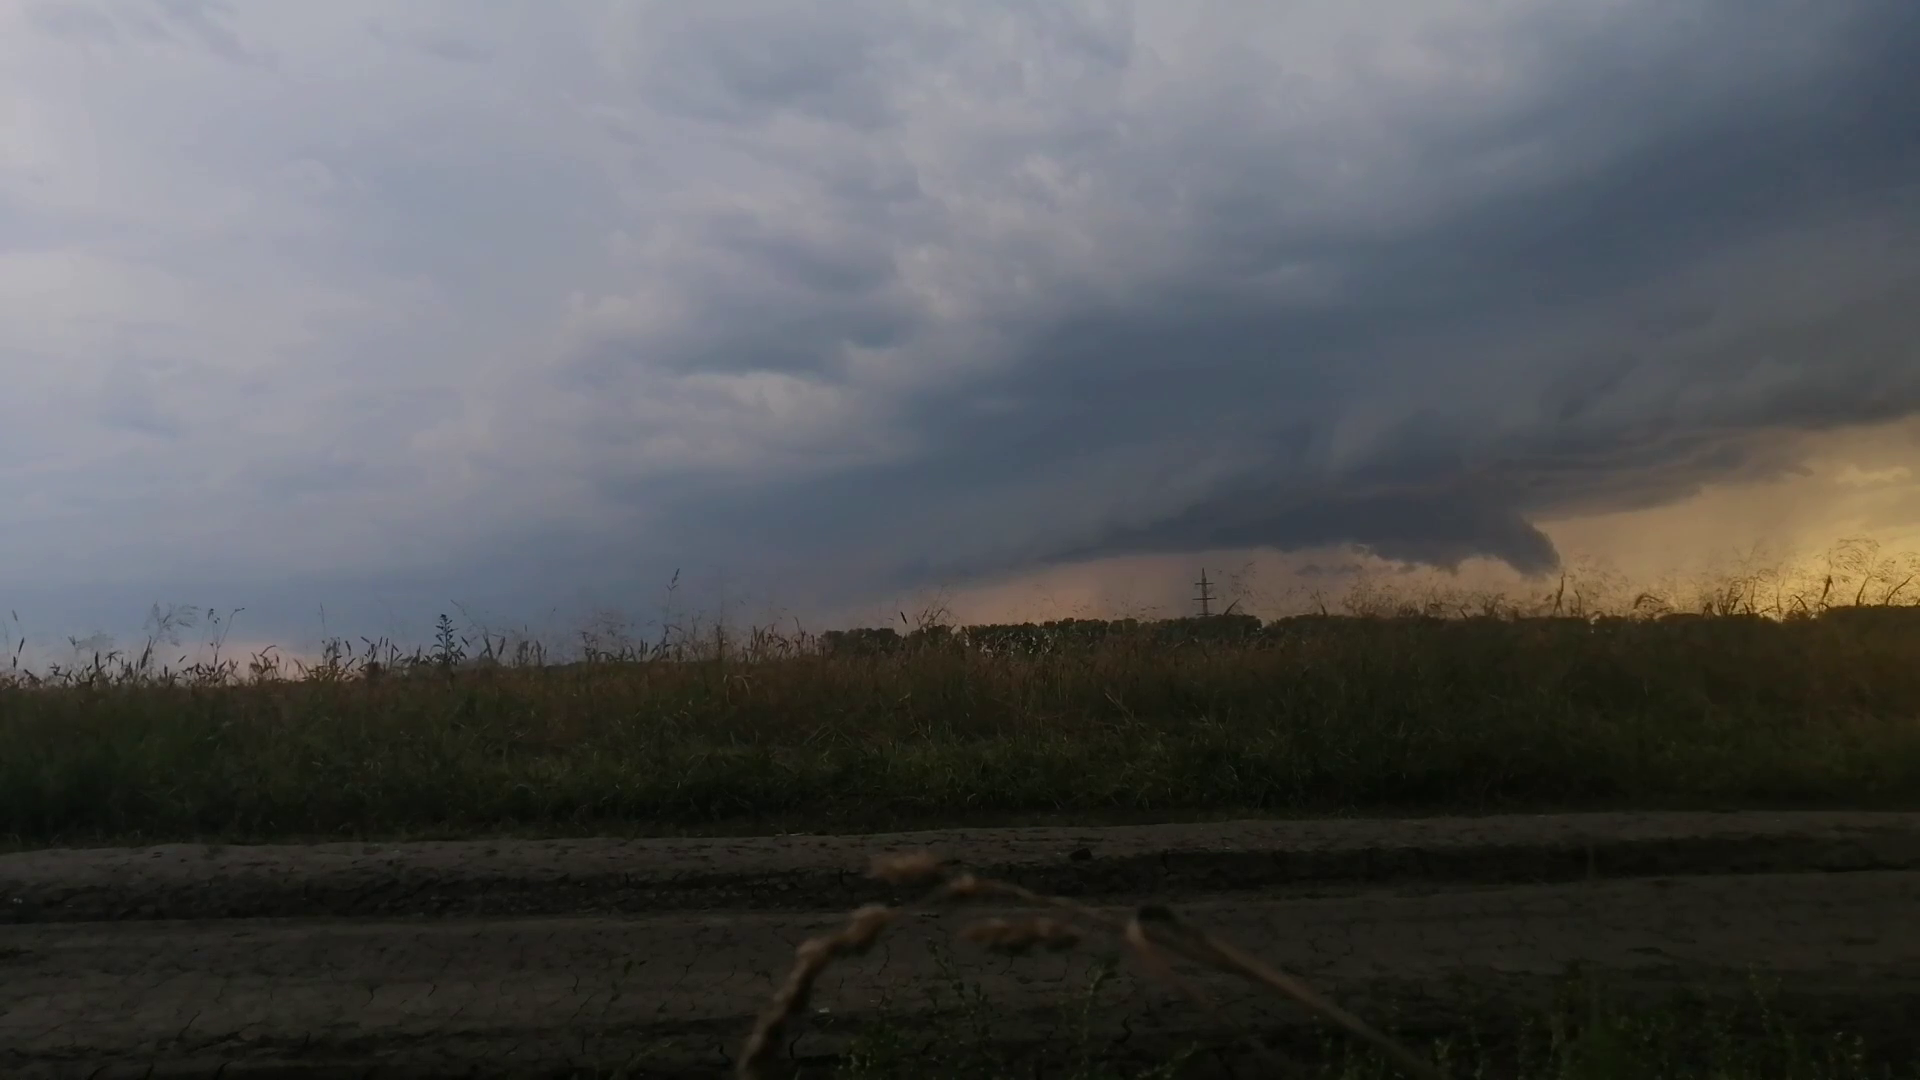FFD: (1, 589, 891, 663)
RFD: (1085, 563, 1393, 626)
mesocyclone: (773, 9, 1919, 473)
wall cloud: (836, 326, 1920, 589)
